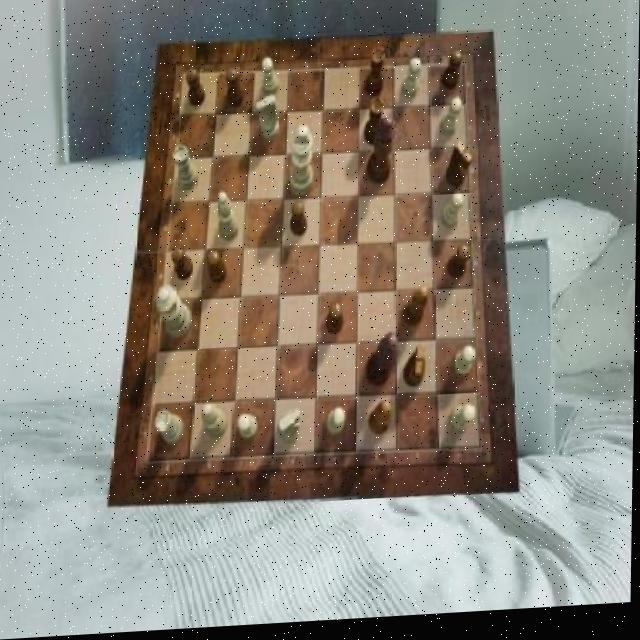bishop: (405, 292, 430, 333), (372, 405, 395, 440)
black-bishop: (368, 337, 401, 392)
black-king: (446, 147, 474, 195), (404, 351, 427, 393)
black-knight: (186, 70, 207, 110), (442, 55, 463, 95), (449, 252, 472, 287), (172, 249, 193, 284), (226, 72, 244, 112), (208, 252, 228, 287), (291, 204, 308, 240), (327, 307, 344, 340)
black-pawn: (369, 122, 398, 190)
black-queen: (366, 53, 387, 101), (365, 102, 384, 151)
black-rook: (219, 195, 240, 245), (204, 405, 229, 442)
white-bishop: (289, 130, 314, 204)
white-king: (257, 99, 281, 146), (279, 410, 302, 446)
white-knight: (439, 103, 462, 143), (442, 198, 465, 235), (403, 64, 423, 103), (452, 410, 478, 438), (454, 351, 476, 383), (262, 61, 279, 100), (239, 417, 260, 443), (328, 413, 346, 441)
white-pawn: (155, 286, 193, 342)
white-queen: (174, 146, 199, 193), (156, 411, 186, 448)
